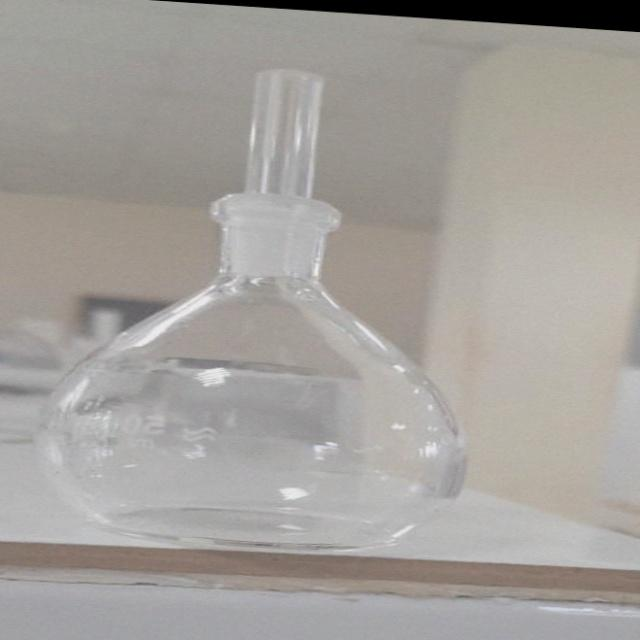Density Bottle for Liquids: (13, 38, 524, 574)
